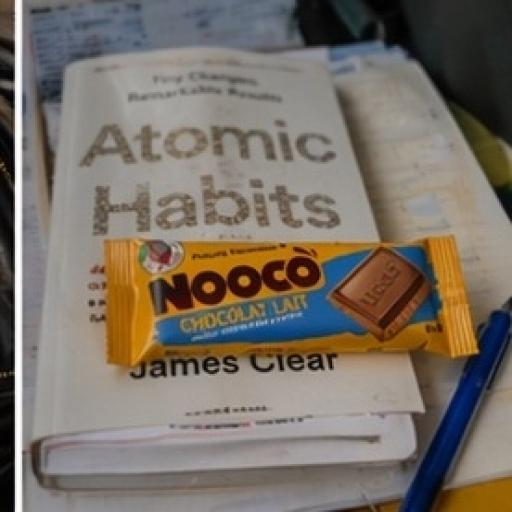biscuit-detection: (88, 192, 492, 398)
